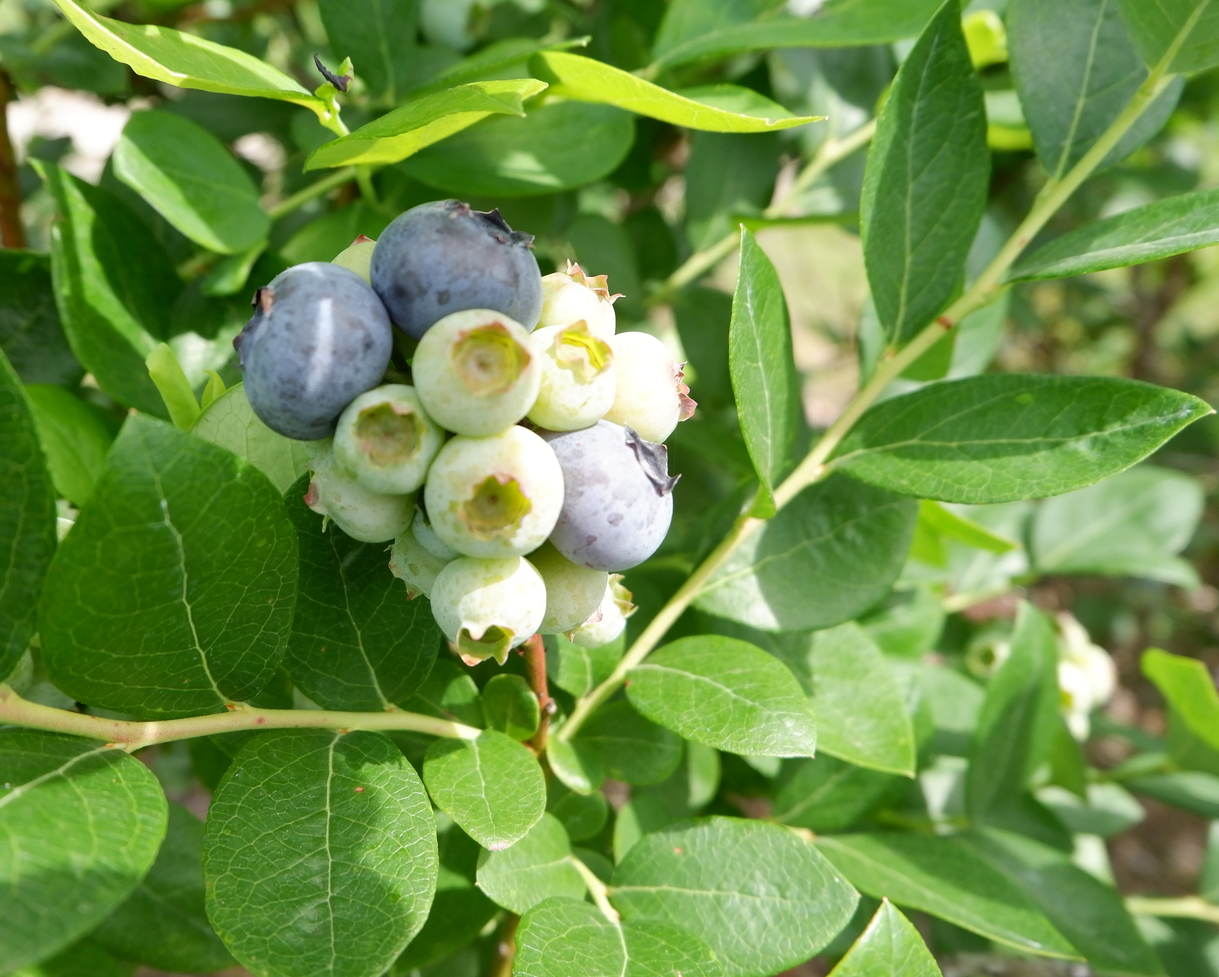Immature: (426, 427, 559, 556), (414, 310, 543, 434), (335, 385, 444, 491), (432, 557, 542, 661), (310, 450, 414, 540), (608, 334, 694, 442), (531, 327, 615, 429), (532, 543, 605, 633), (539, 266, 613, 336), (389, 519, 454, 598), (412, 488, 477, 560), (569, 578, 633, 647), (334, 235, 376, 287)
Mature: (235, 265, 388, 435), (370, 202, 540, 332), (549, 423, 673, 569)
